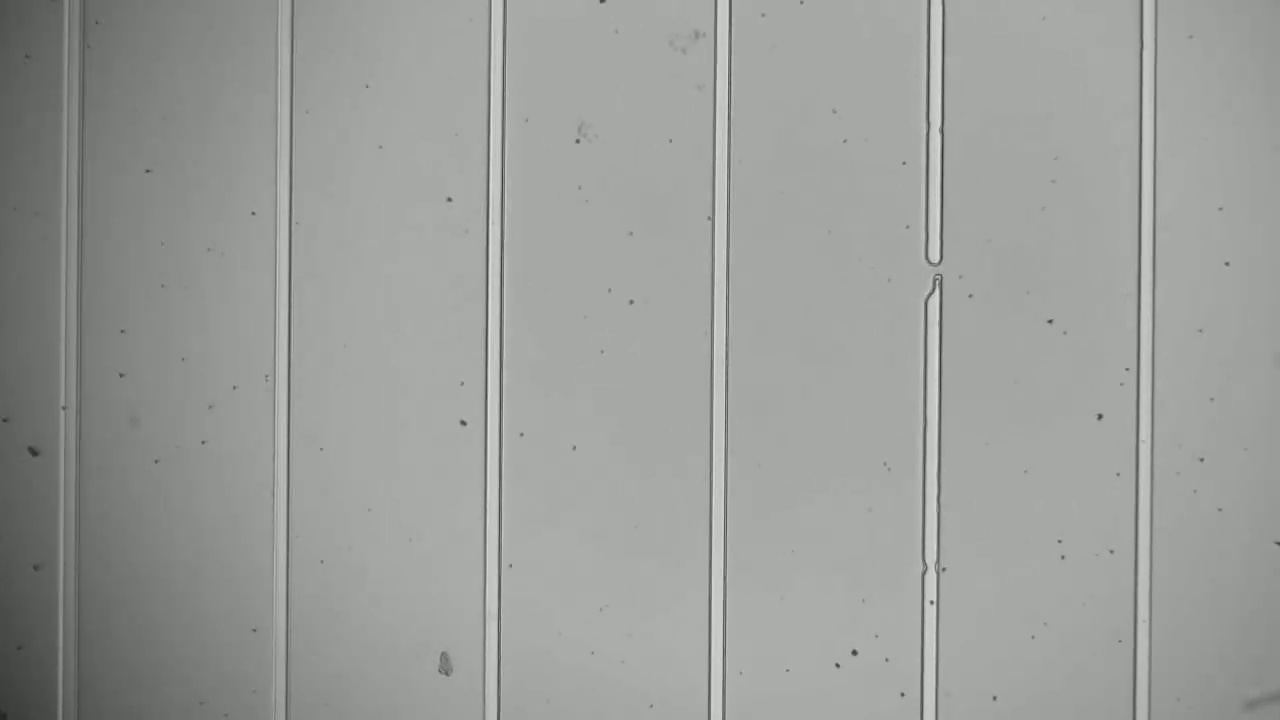edge_bite: (914, 553, 946, 587)
open: (915, 246, 947, 314)
